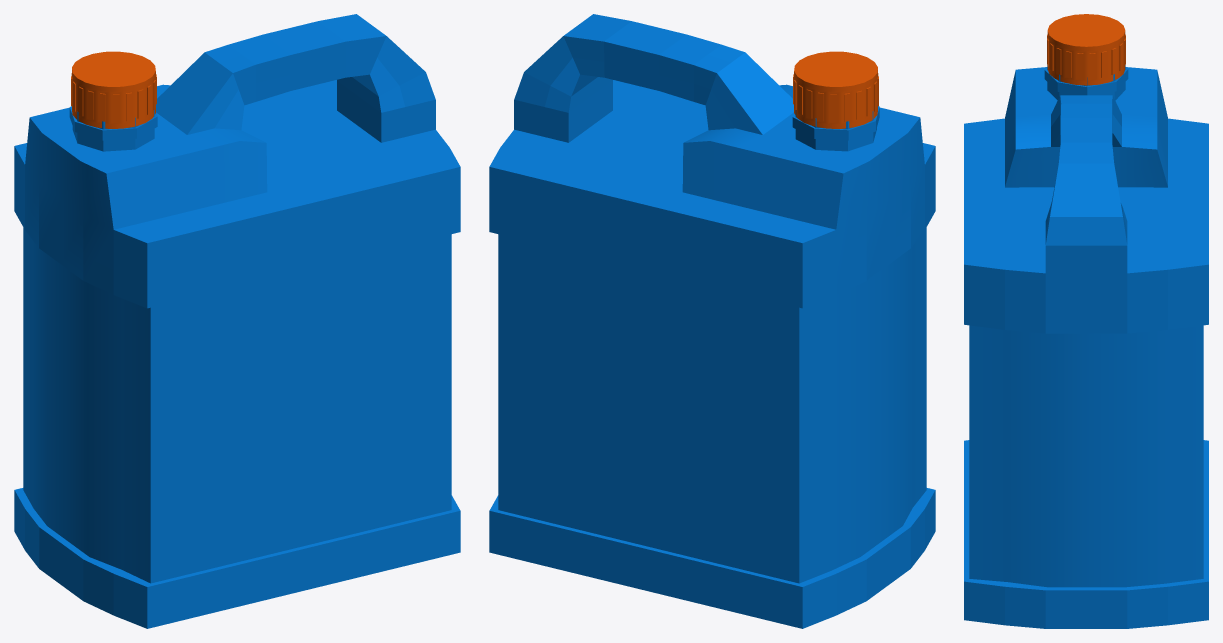
Rendered from Container.fbx.
3 renders of one model, left to right at view 1: azimuth 30°, elevation 25°; view 2: azimuth 150°, elevation 25°; view 3: azimuth 270°, elevation 25°, orthographic. The views are drawn at different scales.
Parts seen in each view (by area): view 1: pCube1, pCylinder1; view 2: pCube1, pCylinder1; view 3: pCube1, pCylinder1.
Boxes of the visible parts, x1=… form: pCube1: x1=14, y1=14, x2=460, y2=628; pCylinder1: x1=71, y1=51, x2=156, y2=128; pCube1: x1=489, y1=14, x2=935, y2=628; pCylinder1: x1=793, y1=51, x2=878, y2=128; pCube1: x1=964, y1=65, x2=1208, y2=628; pCylinder1: x1=1047, y1=14, x2=1125, y2=85.
Size of the model in its own units: 3.55 by 4.85 by 2.32.
